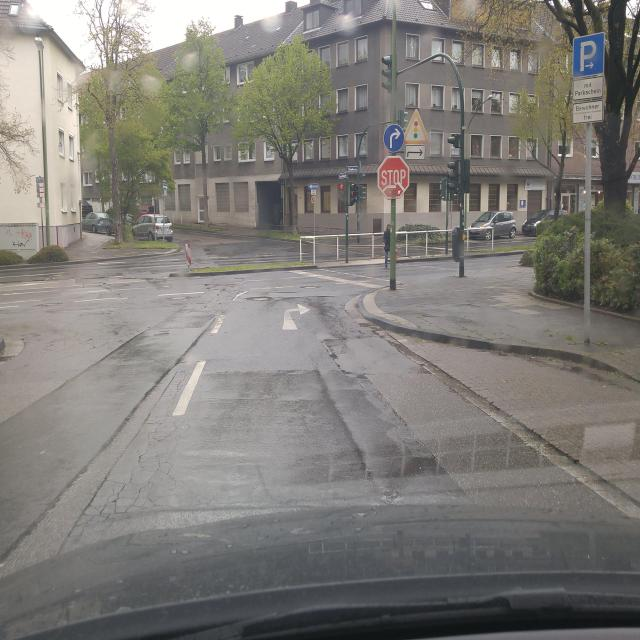Good: (247, 294, 271, 304)
